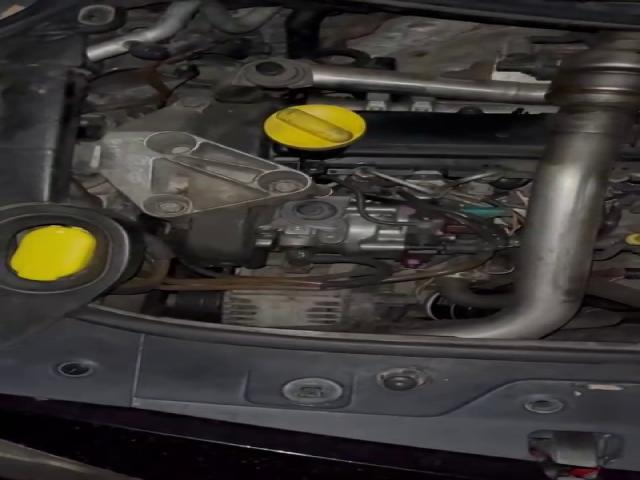alternator: (221, 282, 411, 326)
high_pressure_pump: (275, 203, 461, 269)
